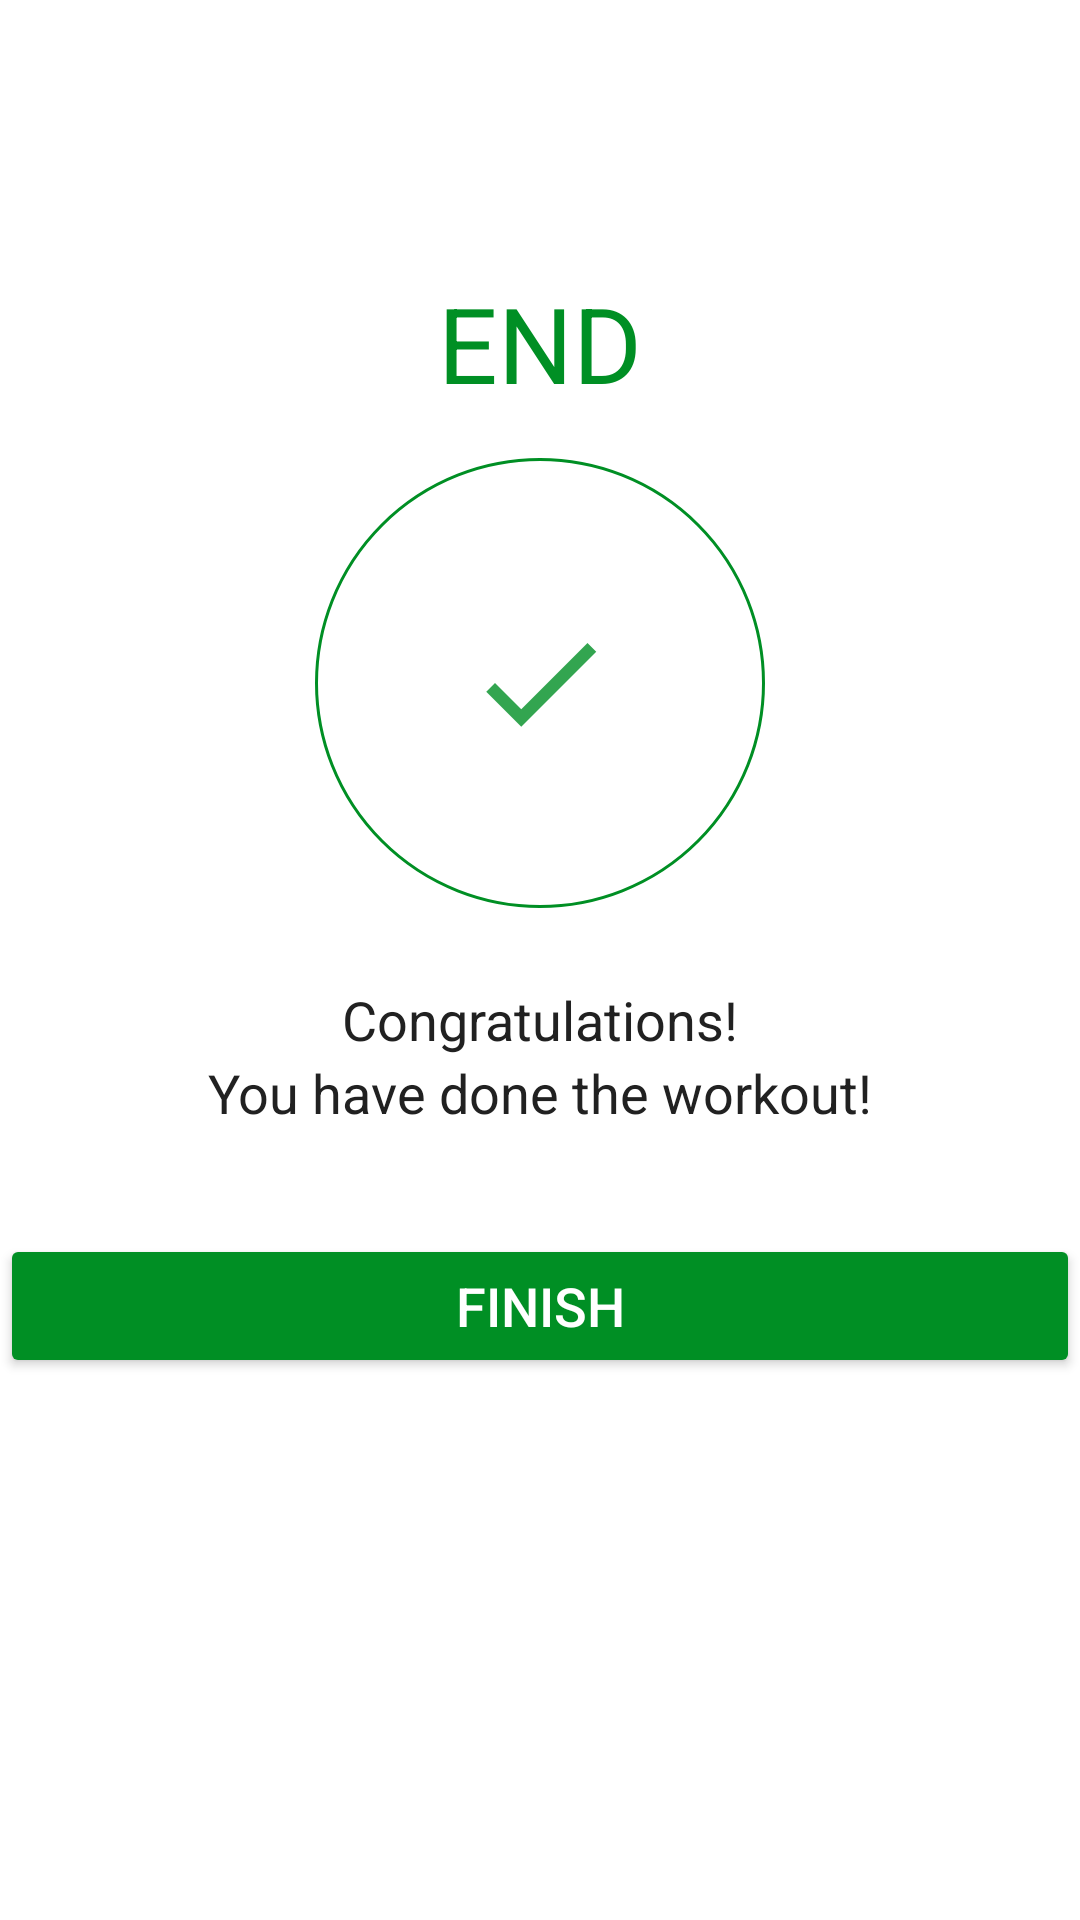

Named icons in this screenshot (1080px×1920px) and their bounding boxes, [x1, y1, x2, y2]:
done: [486, 643, 596, 727]
